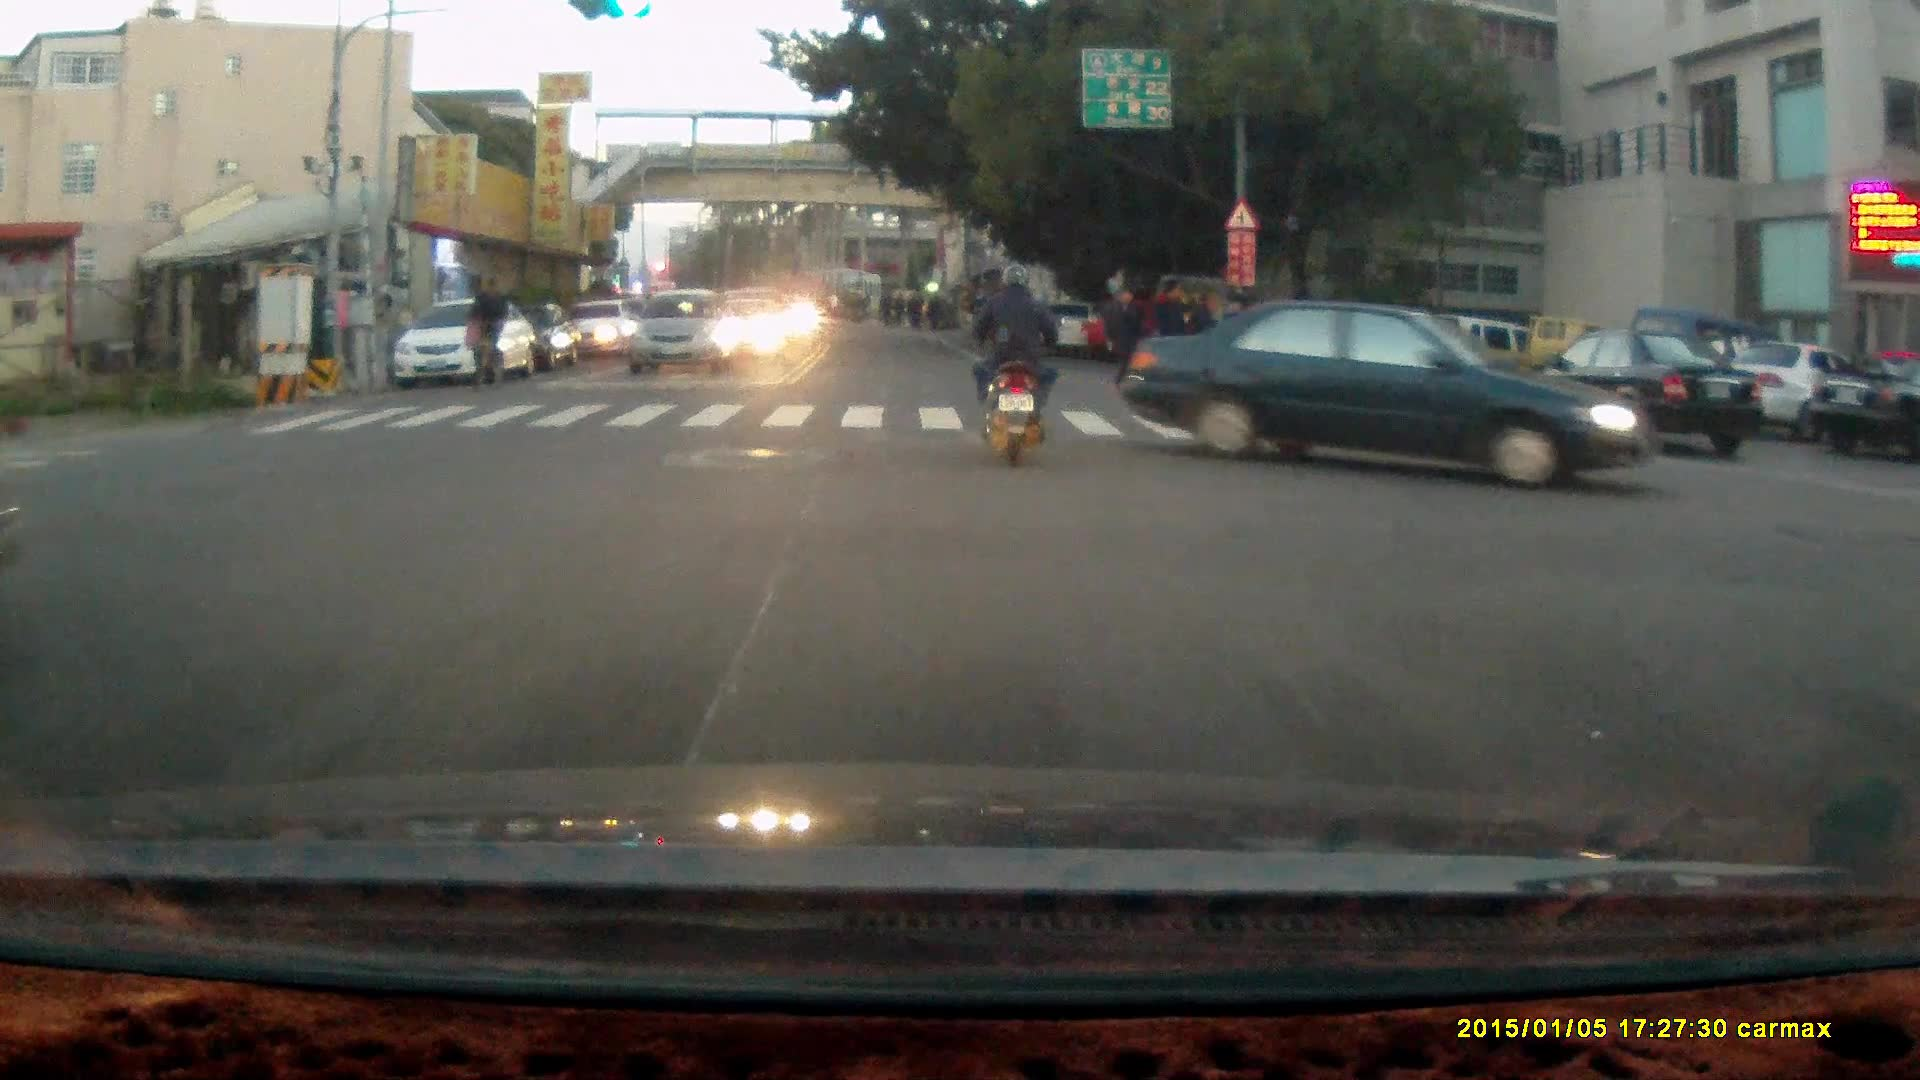pedestrian: (1106, 284, 1143, 389), (1150, 277, 1186, 383), (1183, 289, 1216, 375)
rider: (967, 261, 1061, 466), (463, 271, 507, 389)
vehicle: (1115, 288, 1658, 490), (1522, 327, 1766, 452), (1704, 337, 1892, 441), (392, 293, 544, 389), (1805, 352, 1920, 460), (623, 289, 744, 378)
